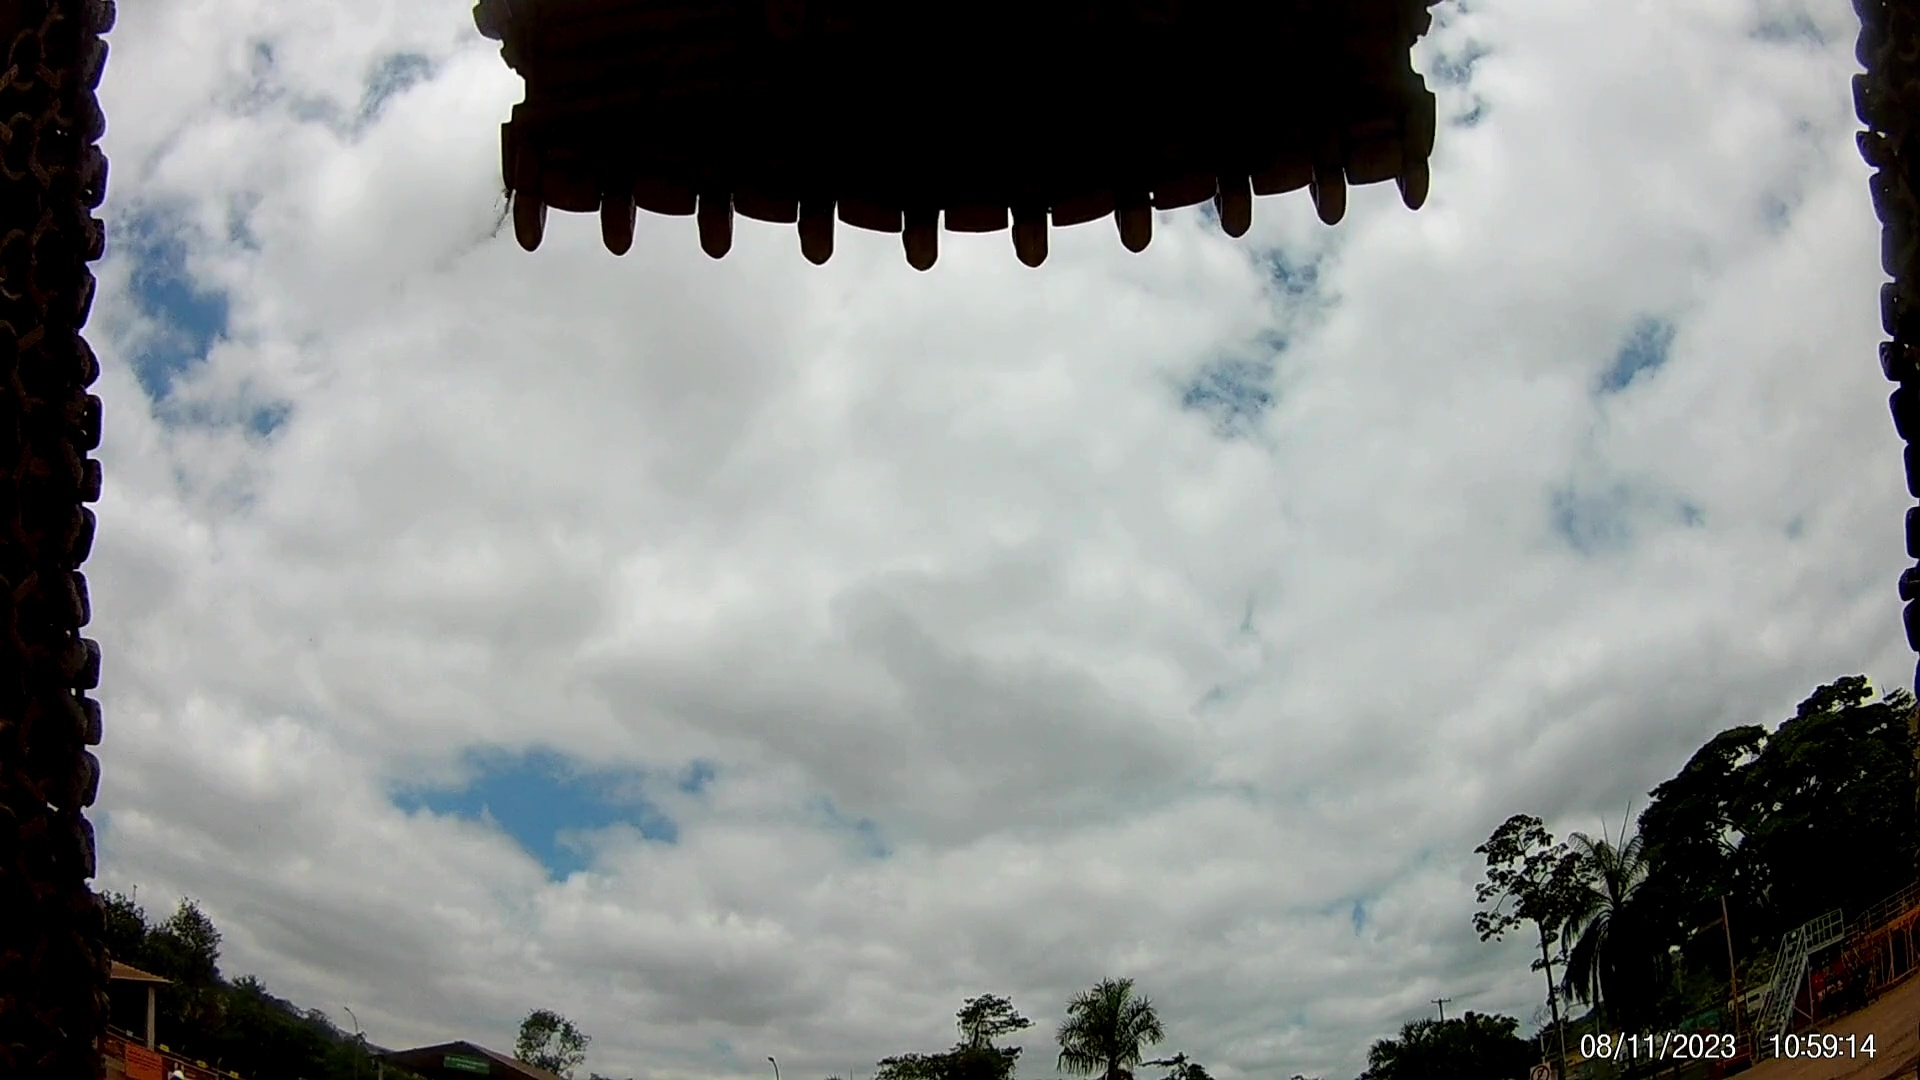FPS: (1033, 417, 1182, 481), (1063, 324, 1222, 384), (1080, 210, 1213, 274), (1042, 869, 1174, 931), (1018, 700, 1145, 756), (1089, 119, 1251, 160), (1021, 605, 1142, 657), (1036, 512, 1142, 568), (1044, 931, 1168, 978), (1044, 793, 1154, 841)
